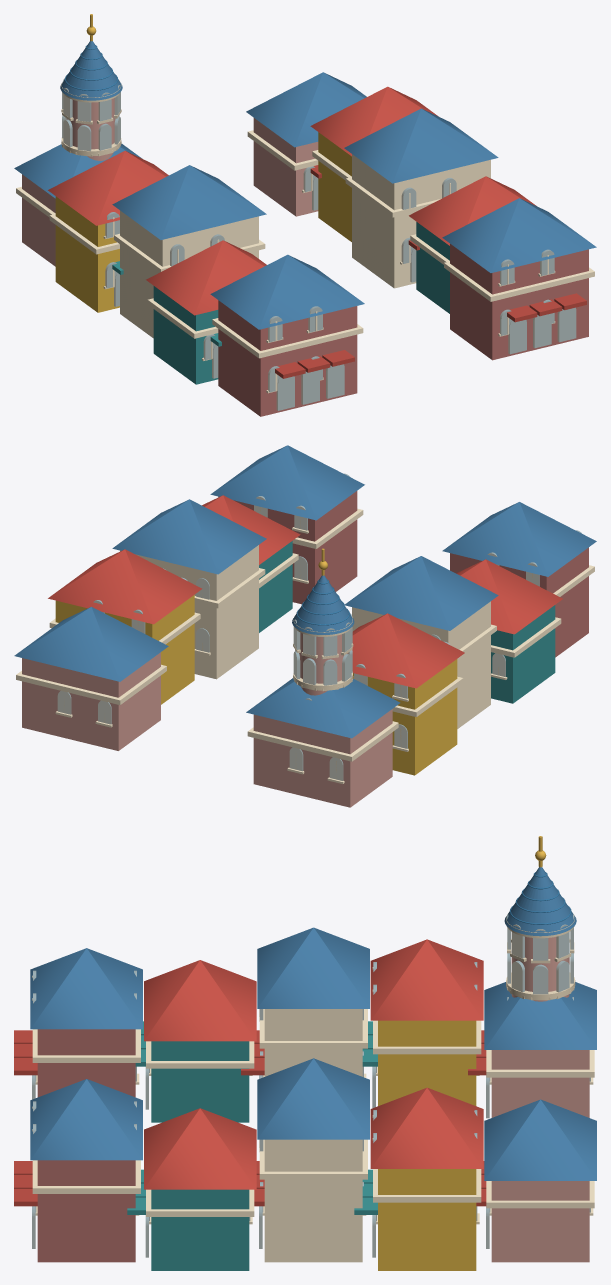
The model's file is town.glb.
3 renders of one model, top to bottom at view 1: azimuth 30°, elevation 25°; view 2: azimuth 150°, elevation 25°; view 3: azimuth 270°, elevation 25°, orthographic. The views are drawn at different scales.
Bounding box in the file's own units: 4.78 × 2.86 × 5.65.
